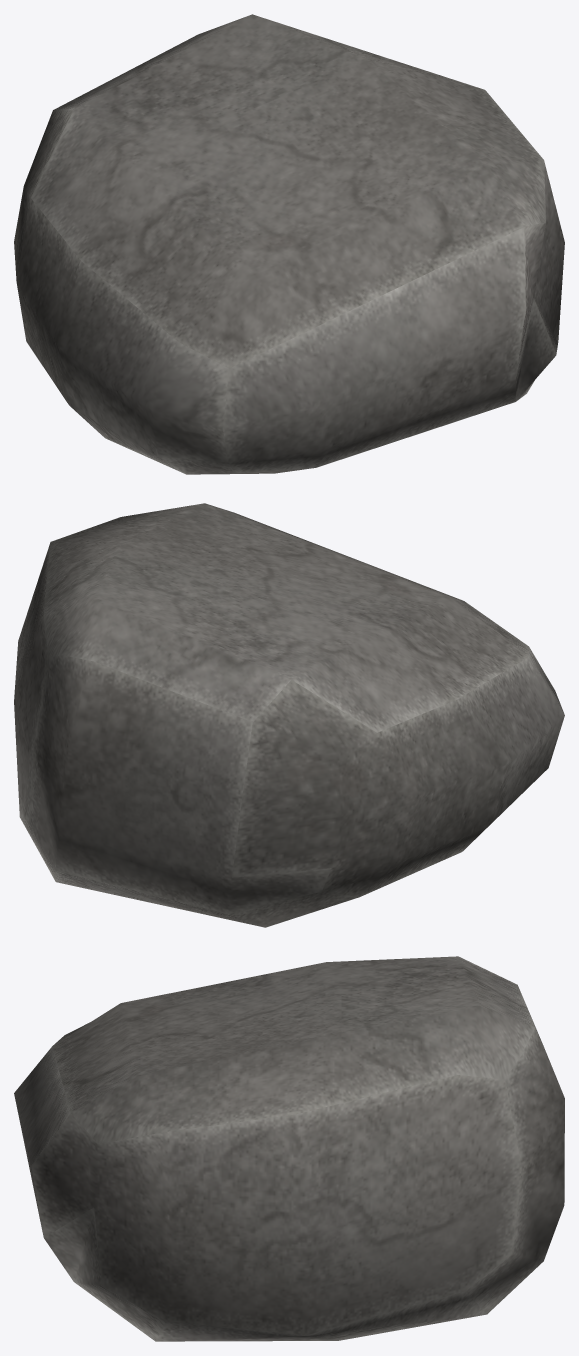
File: Rock_08.fbx
3 renders of one model, top to bottom at view 1: azimuth 30°, elevation 25°; view 2: azimuth 150°, elevation 25°; view 3: azimuth 270°, elevation 25°, orthographic. The views are drawn at different scales.
Visible parts, largest first — view 1: Rock_08; view 2: Rock_08; view 3: Rock_08.
Part boxes in pixels (x1=…): Rock_08: x1=14, y1=14, x2=564, y2=474; Rock_08: x1=14, y1=503, x2=564, y2=927; Rock_08: x1=14, y1=956, x2=564, y2=1341.
Size of the model in its own units: 2.11 by 1.31 by 2.15.
Materials: 1 (1 with a texture image).
